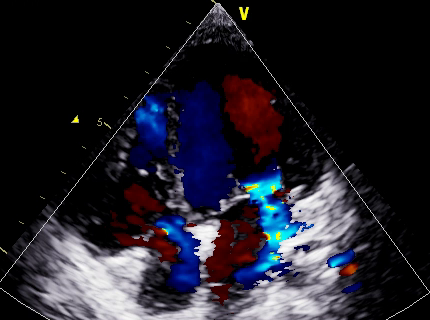MR: (204, 170, 303, 232)
